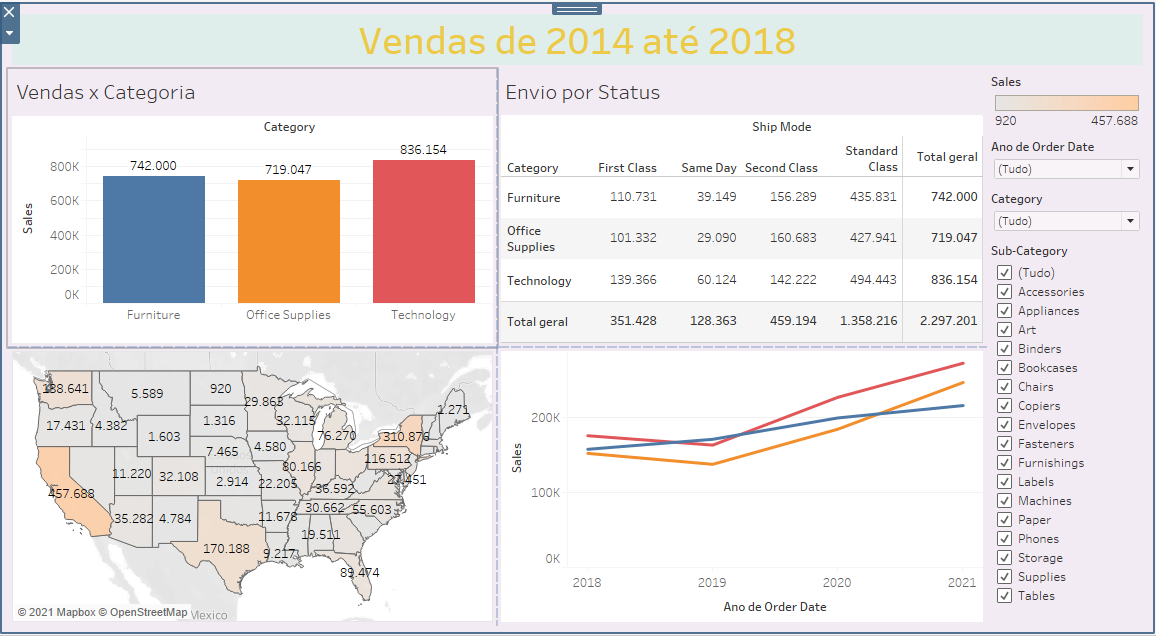

Layout of this report page (visuals, bound fields, positions):
{"tool":"tableau","page":{"name":"Vendas de 14 a 18","canvas":[1000,1000],"units":"permille","ordinal":0},"visuals":[{"type":"title","box":[6.9,12.7,986.1,93.4]},{"type":"worksheet","title":"GrafCatVend","mark":"Automatic","rows":["Sales"],"cols":["Category"],"box":[6.9,106,423.8,440.6]},{"type":"worksheet","title":"Envio","mark":"Automatic","rows":["Category"],"cols":["Ship Mode"],"box":[430.7,106,423.8,440.6]},{"type":"legend","title":"MapaCoropletico","param":"[federated.0cqipwk0xqqe5k1bzozdh0k004rt].[sum:Sales:qk]","box":[854.5,106,138.5,102.9]},{"type":"filter","title":"EvolucaoVendas","param":"[federated.0cqipwk0xqqe5k1bzozdh0k004rt].[yr:Order Date:ok]","box":[854.5,208.9,138.5,82.3]},{"type":"filter","title":"EvolucaoVendas","param":"[federated.0cqipwk0xqqe5k1bzozdh0k004rt].[none:Category:nk]","box":[854.5,291.2,138.5,82.3]},{"type":"filter","title":"EvolucaoVendas","param":"[federated.0cqipwk0xqqe5k1bzozdh0k004rt].[none:Sub-Category:nk]","box":[854.5,373.4,138.5,591.8]},{"type":"worksheet","title":"MapaCoropletico","mark":"Automatic","box":[6.9,546.6,423.8,440.7]},{"type":"worksheet","title":"EvolucaoVendas","mark":"Automatic","rows":["Sales"],"cols":["Order Date"],"box":[430.7,546.6,423.8,440.7]}]}

Visuals, with their boxes on the dashboard's canvas, which has no fixed pixel size, in thousandths of its width and height (x1, y1, x2, y2). These are canvas units, not pixel positions in the 1156x636 screenshot, which may show the page scaled, cropped or inside an application window:
title: rect(7, 13, 993, 106)
"GrafCatVend" worksheet: rect(7, 106, 431, 547)
"Envio" worksheet: rect(431, 106, 854, 547)
"MapaCoropletico" legend: rect(854, 106, 993, 209)
"EvolucaoVendas" filter: rect(854, 209, 993, 291)
"EvolucaoVendas" filter: rect(854, 291, 993, 374)
"EvolucaoVendas" filter: rect(854, 373, 993, 965)
"MapaCoropletico" worksheet: rect(7, 547, 431, 987)
"EvolucaoVendas" worksheet: rect(431, 547, 854, 987)
